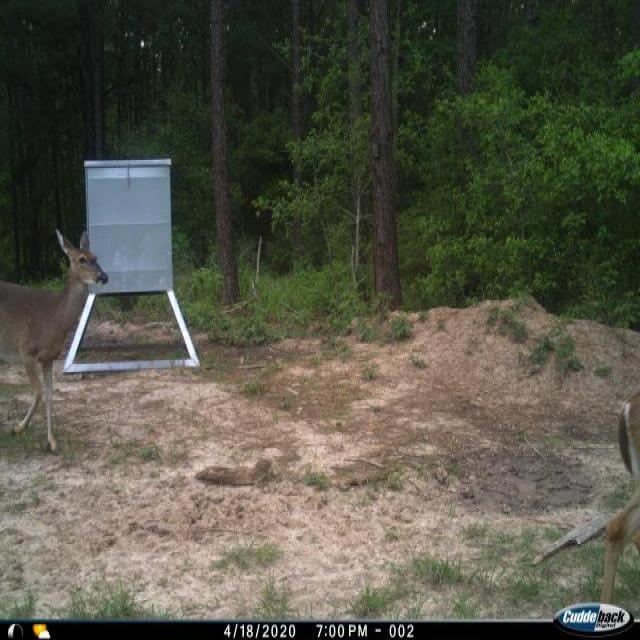deer: (2, 218, 109, 457), (602, 389, 640, 600)
